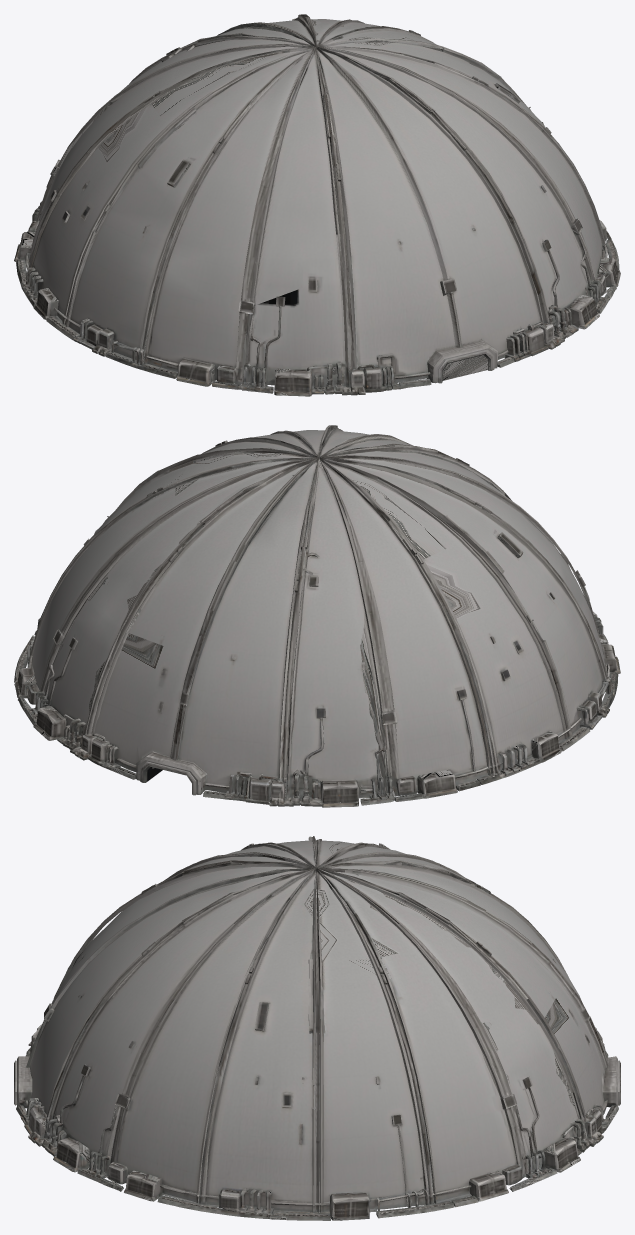
The model's file is industrial_dome_before_cleanup.fbx.
3 views of the same model, one above another, from view 1: azimuth 30°, elevation 25°; view 2: azimuth 150°, elevation 25°; view 3: azimuth 270°, elevation 25° (orthographic).
Visible parts, largest first — view 1: IndustrialDome; view 2: IndustrialDome; view 3: IndustrialDome.
Part boxes in pixels (left/top/right/bottom): IndustrialDome: left=14, top=14, right=620, bottom=396; IndustrialDome: left=14, top=425, right=620, bottom=807; IndustrialDome: left=14, top=836, right=620, bottom=1220.
Bounding box in the file's own units: 99.97 × 40.7 × 99.95.
1 material, 1 textured.
